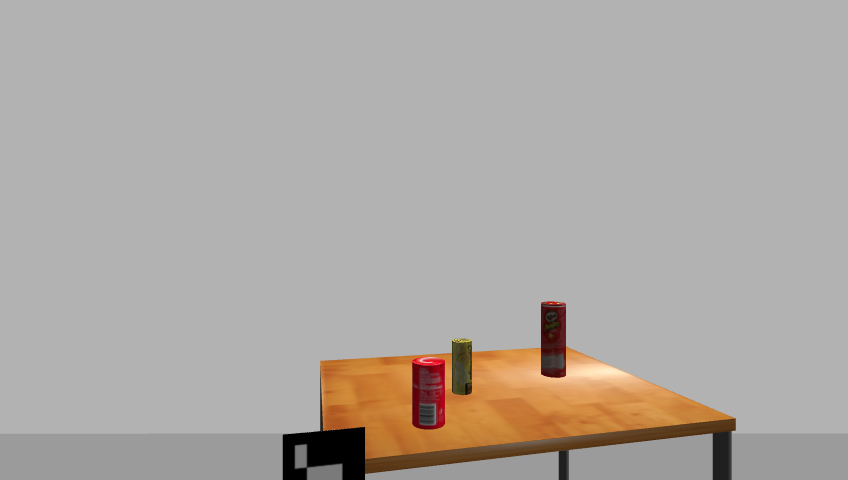aruco marker: (278, 426, 371, 480)
biscuits pack: (451, 338, 474, 398)
coke can: (410, 357, 448, 431)
dinner table: (313, 347, 742, 480)
pringles can: (539, 301, 569, 379)
